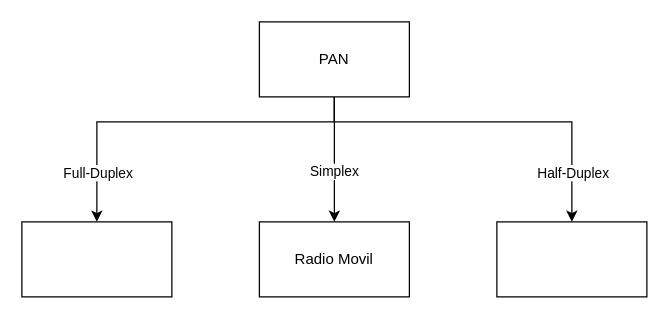
The diagram is 669 pixels wide and 319 high, and some of its shapes have lost their labels. The centre of each missing label's shape, as x and y in pixels:
Llamada Movil: [96,259]
WalkieTalkie: [571,259]
